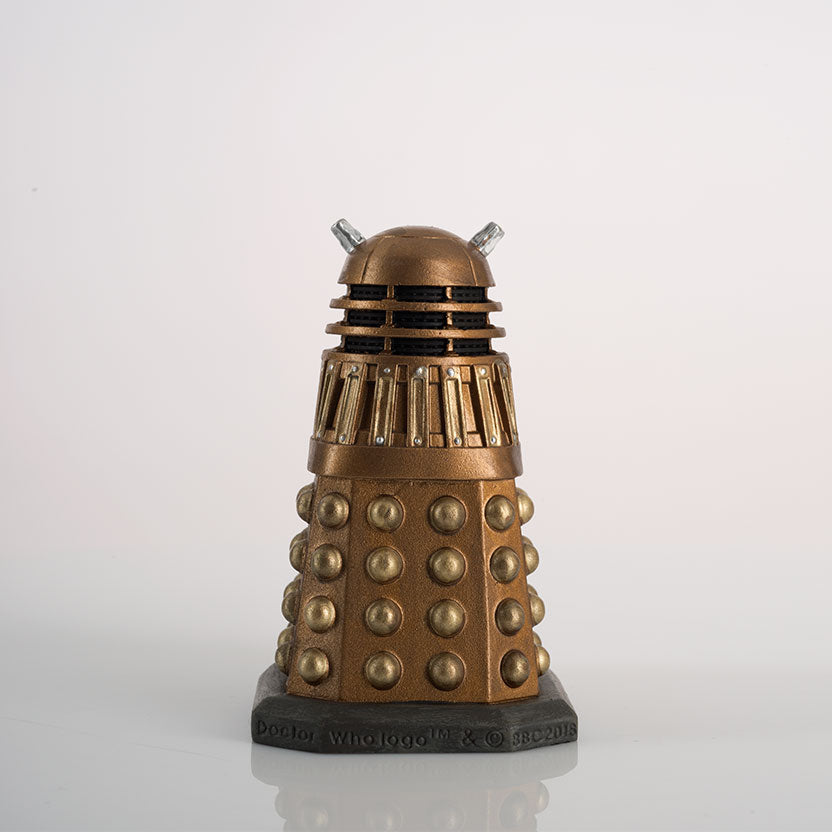dalek: (253, 175, 610, 761)
